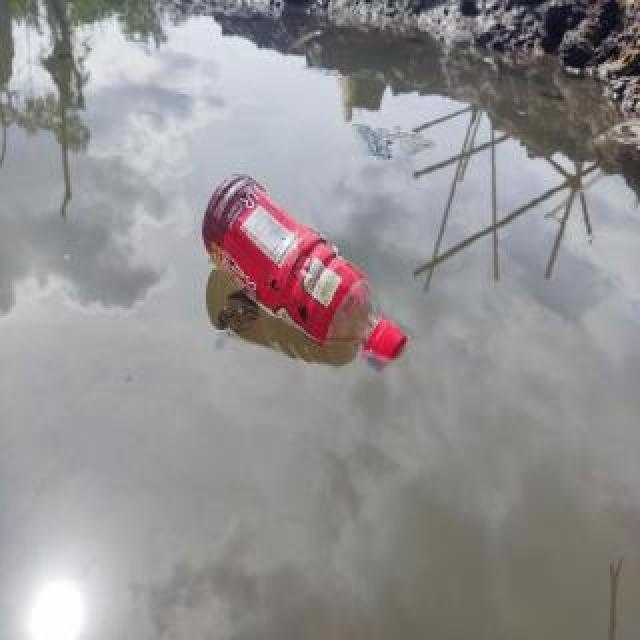bottle: (198, 166, 410, 378)
